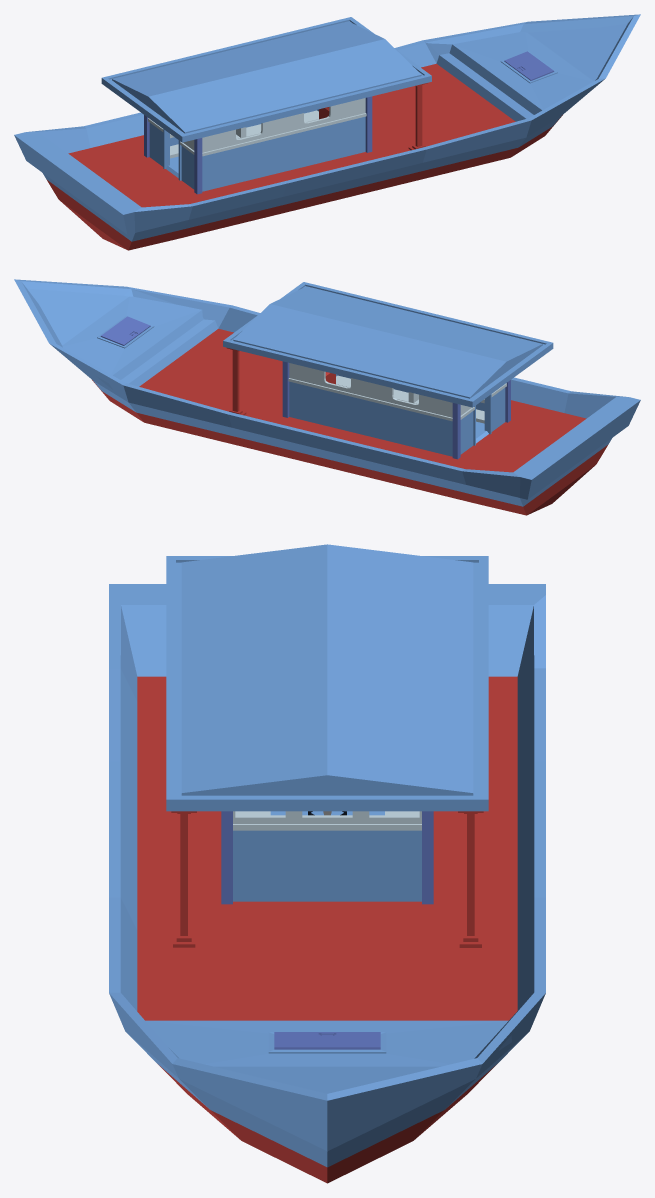
Rendered from kapal textured default.fbx.
The picture shows the model from 3 angles, top to bottom: view 1: azimuth 30°, elevation 25°; view 2: azimuth 150°, elevation 25°; view 3: azimuth 270°, elevation 25°; orthographic projection. The views are drawn at different scales.
Visible parts, largest first — view 1: Plane, Cube.001, Plane.003, Cube, Plane.002, Cube.004, Cube.003, Plane.001, Cube.002, Cube.005; view 2: Plane, Cube.001, Plane.003, Cube, Plane.002, Cube.004, Cube.003, Plane.001, Cube.002, Cube.006; view 3: Cube.001, Plane.003, Plane, Cube, Plane.002, Cube.004, Cube.002, Cube.003, Plane.001.
Boxes of the visible parts, box(x1,y1,x2,y2) form: Plane: box(14, 14, 640, 241); Cube.001: box(101, 17, 431, 142); Plane.003: box(68, 63, 515, 207); Cube: box(149, 109, 365, 191); Plane.002: box(46, 115, 562, 250); Cube.004: box(148, 98, 366, 156); Cube.003: box(144, 96, 372, 194); Plane.001: box(504, 51, 554, 80); Cube.002: box(408, 83, 427, 150); Cube.005: box(170, 110, 318, 158); Plane: box(14, 279, 640, 506); Cube.001: box(223, 282, 553, 407); Plane.003: box(139, 328, 586, 472); Cube: box(289, 374, 505, 456); Plane.002: box(92, 380, 608, 515); Cube.004: box(288, 363, 506, 421); Cube.003: box(282, 361, 510, 459); Plane.001: box(100, 316, 150, 345); Cube.002: box(227, 348, 246, 415); Cube.006: box(336, 375, 484, 423); Cube.001: box(166, 544, 488, 811); Plane.003: box(137, 676, 517, 1020); Plane: box(109, 584, 545, 1167); Cube: box(233, 811, 421, 901); Plane.002: box(158, 1064, 496, 1183); Cube.004: box(233, 811, 421, 830); Cube.002: box(171, 811, 483, 947); Cube.003: box(221, 811, 433, 904); Plane.001: box(274, 1032, 380, 1049).
Size of the model in its own units: 2422 by 530 by 801.
